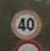limite 40: (8, 7, 43, 41)
